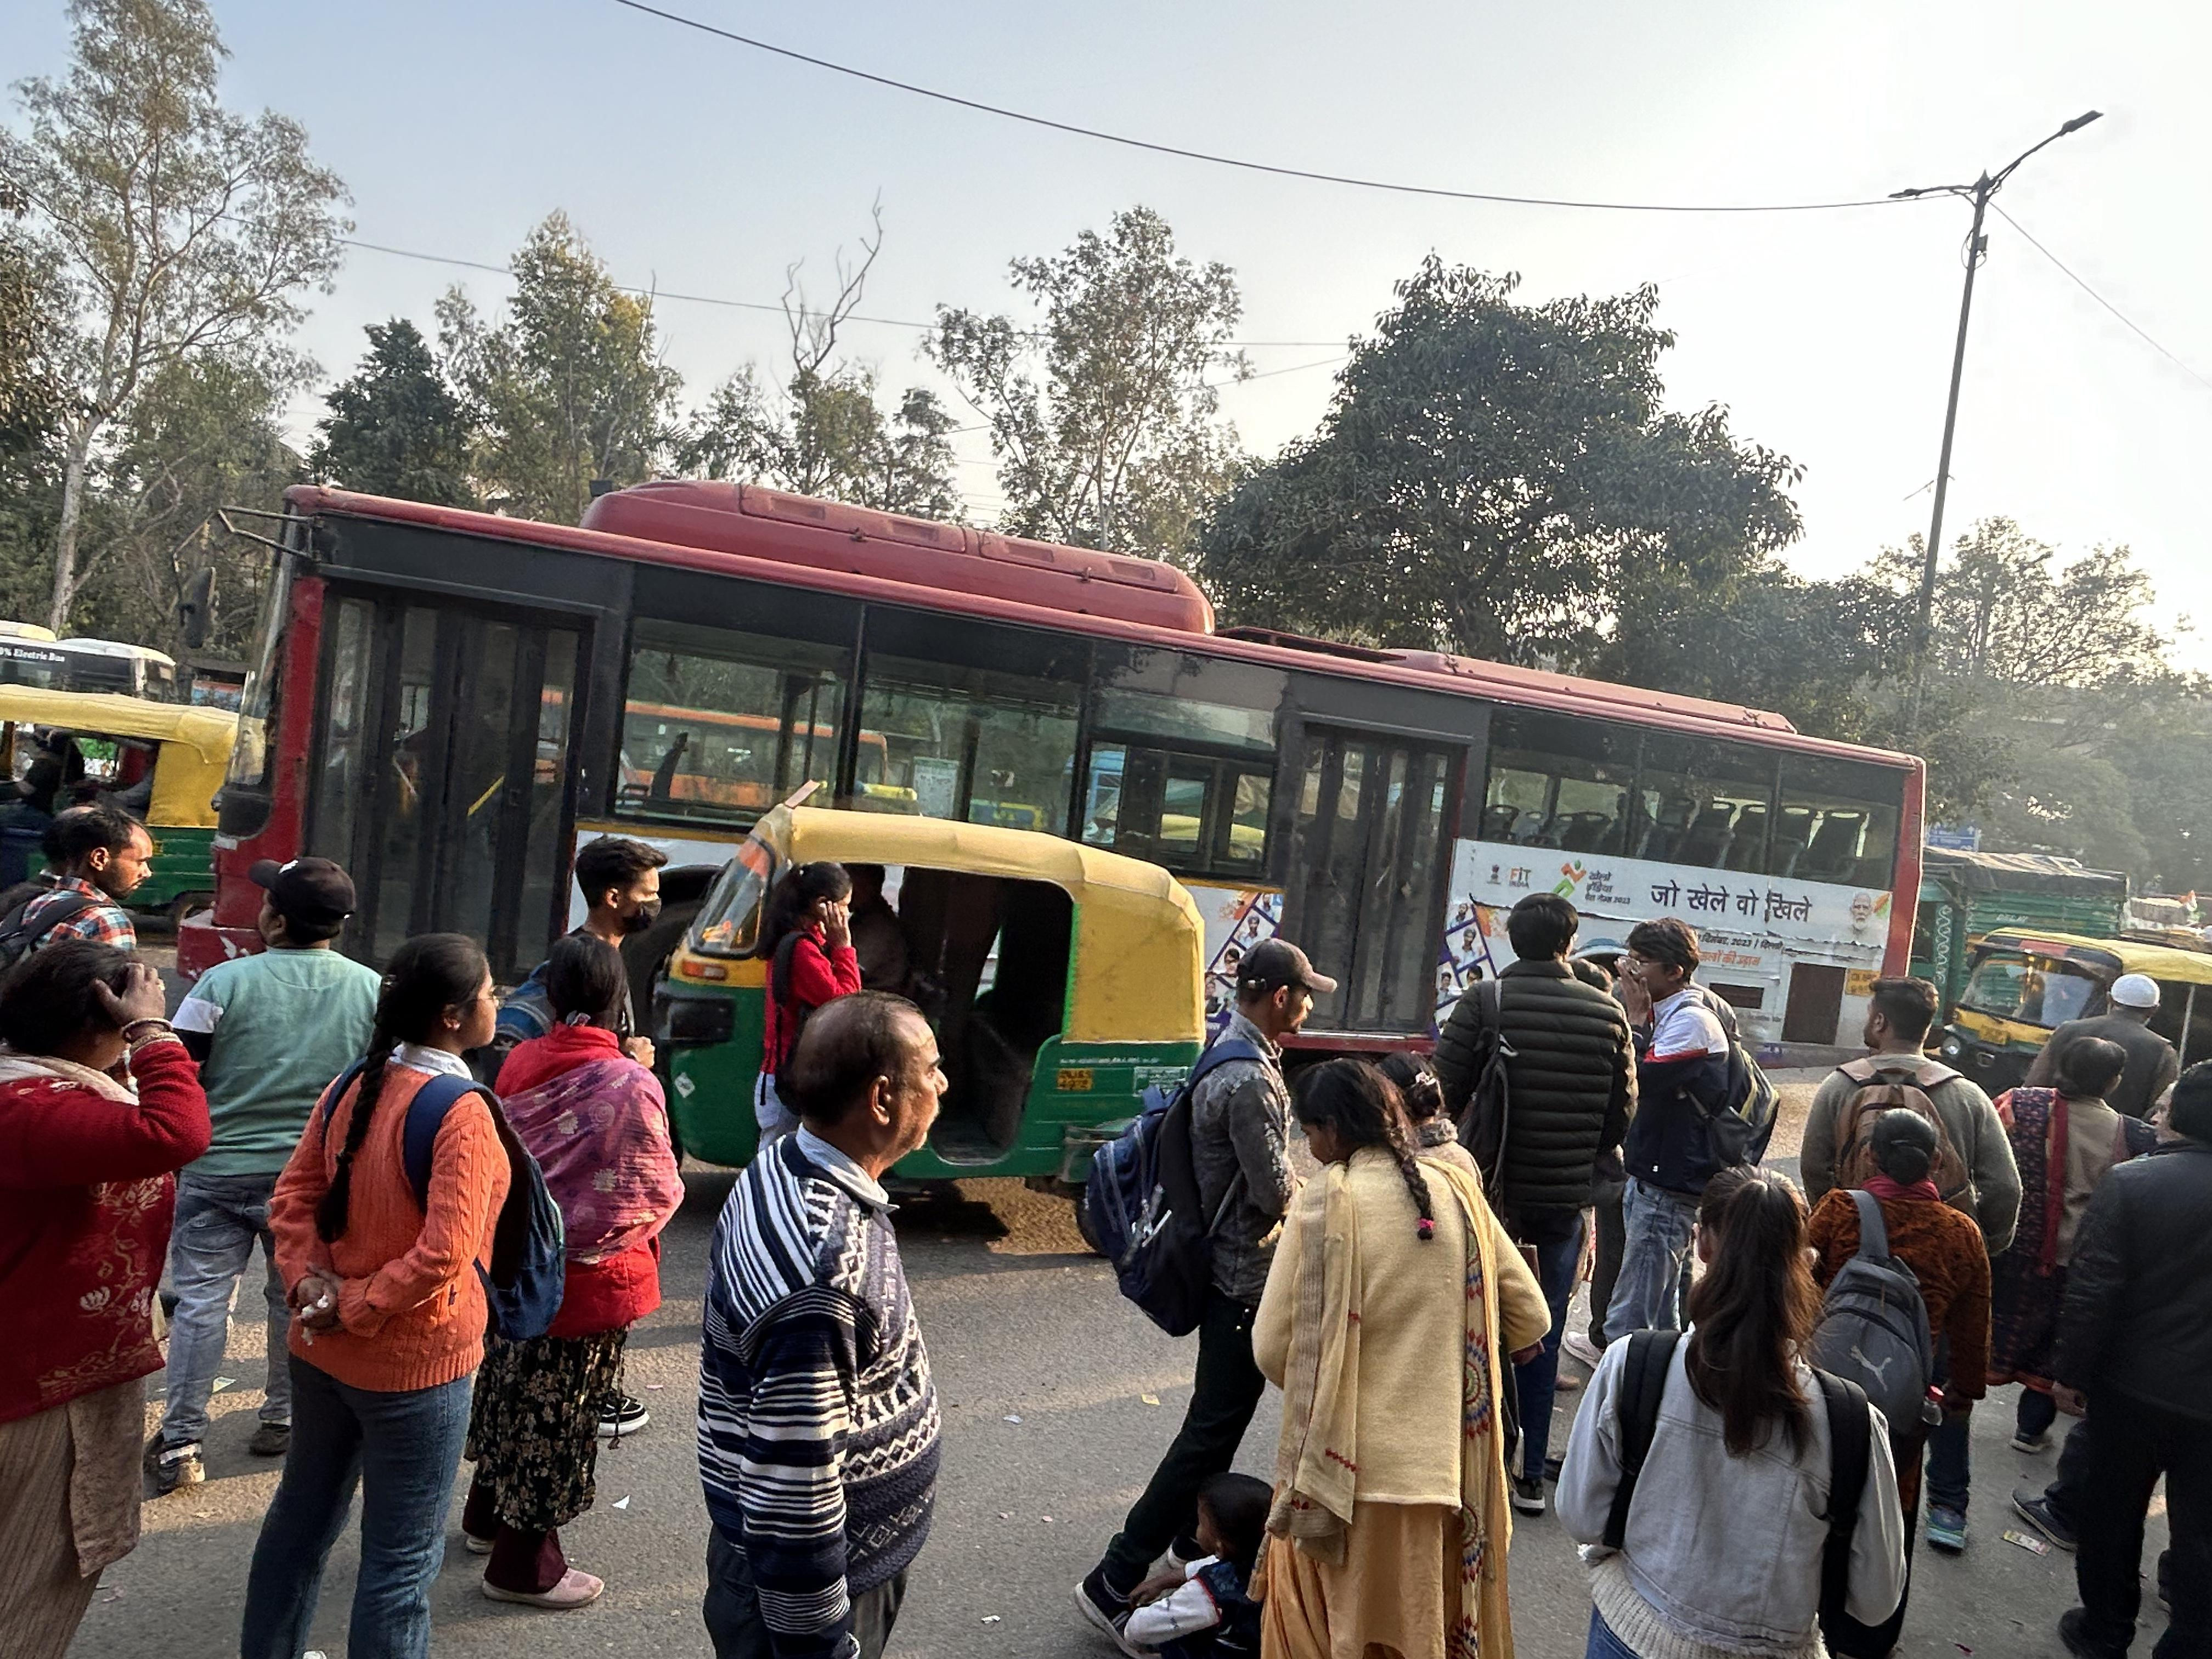Bus: (186, 460, 1986, 1098)
